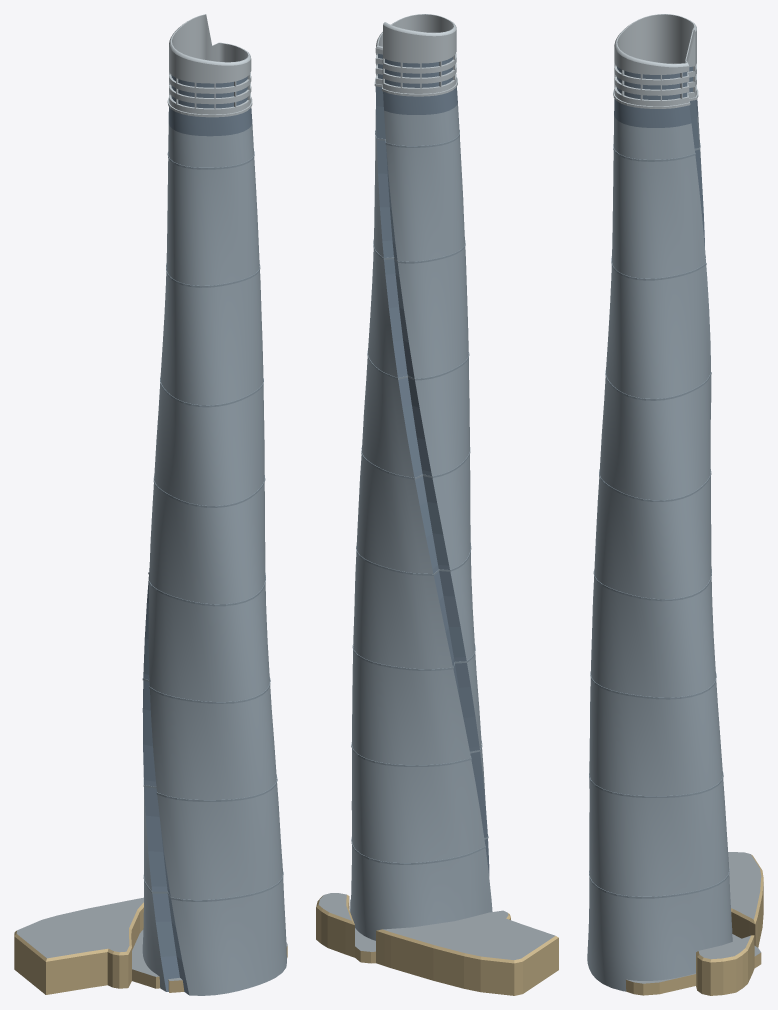
The model's file is shanghai-tower.glb.
The picture shows the model from 3 angles, left to right: view 1: azimuth 30°, elevation 25°; view 2: azimuth 150°, elevation 25°; view 3: azimuth 270°, elevation 25°; orthographic projection. The views are drawn at different scales.
Parts seen in each view (by area): view 1: Shanghai Tower; view 2: Shanghai Tower; view 3: Shanghai Tower.
Boxes of the visible parts, <box> form: Shanghai Tower: <box>14,14,287,995</box>; Shanghai Tower: <box>316,14,558,995</box>; Shanghai Tower: <box>587,14,763,995</box>.
Size of the model in its own units: 159 by 632 by 108.
